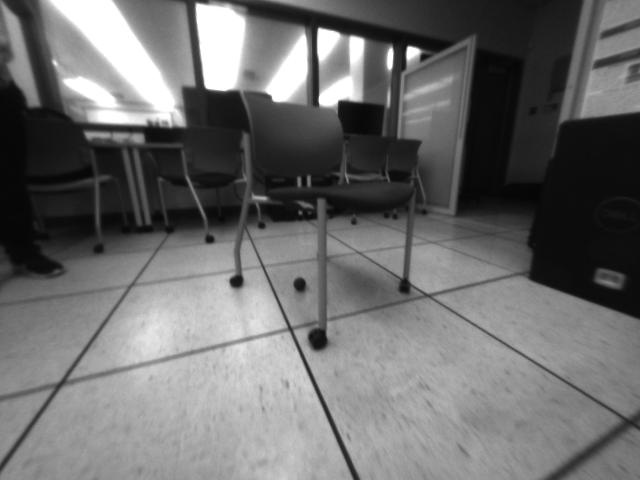dogtoy: (286, 269, 315, 297)
